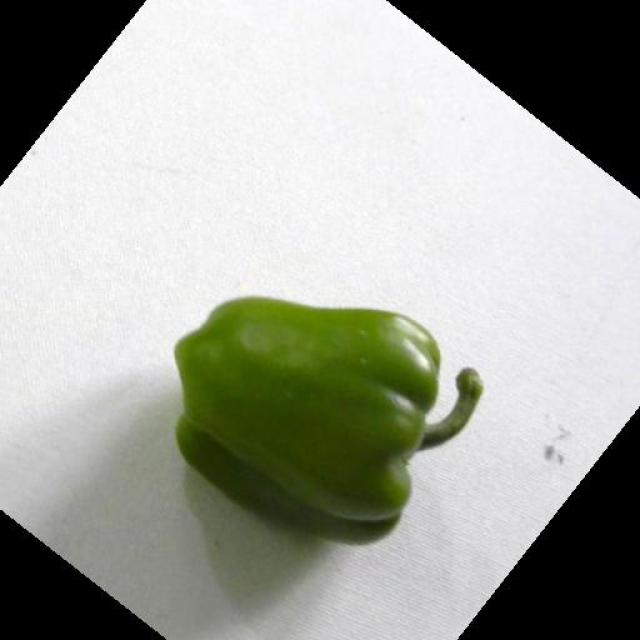Fresh_Capsicum: (185, 310, 443, 484)
